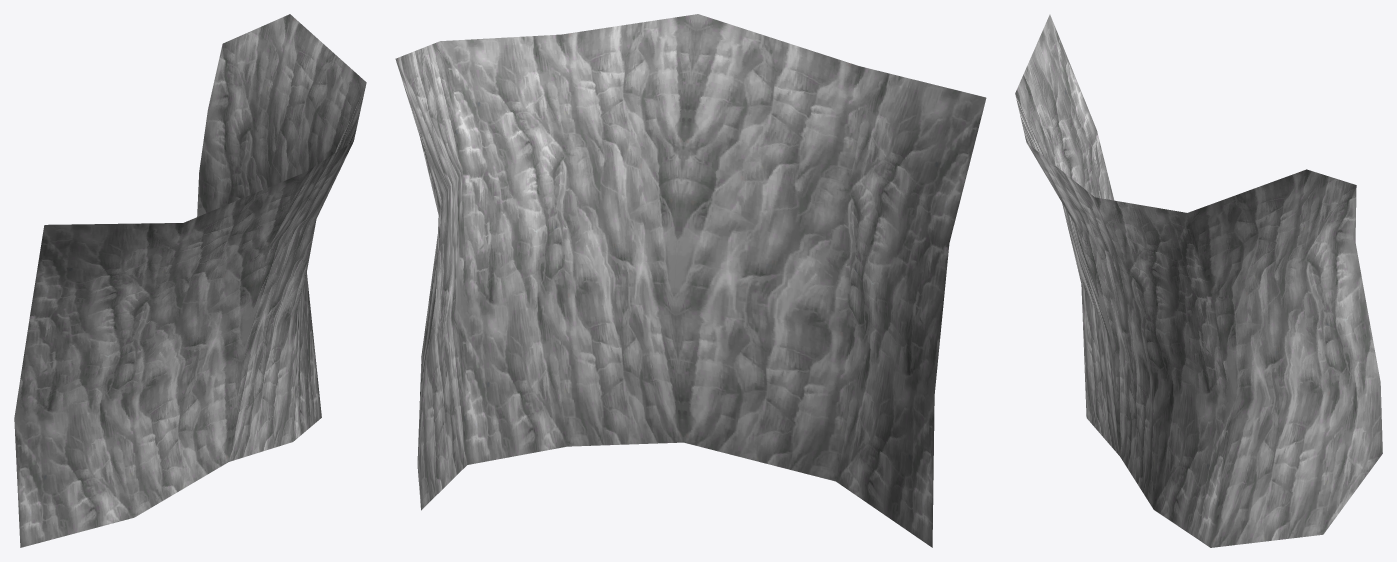
File: SWORDLIGHT20_PS-AREA03_76.fbx
The picture shows the model from 3 angles, left to right: view 1: azimuth 30°, elevation 25°; view 2: azimuth 150°, elevation 25°; view 3: azimuth 270°, elevation 25°; orthographic projection. The views are drawn at different scales.
Visible parts, largest first — view 1: SWORDLIGHT20_PS-AREA03_76; view 2: SWORDLIGHT20_PS-AREA03_76; view 3: SWORDLIGHT20_PS-AREA03_76.
Part boxes in pixels (bbox=[...]): SWORDLIGHT20_PS-AREA03_76: bbox=[14, 14, 366, 547]; SWORDLIGHT20_PS-AREA03_76: bbox=[395, 14, 986, 547]; SWORDLIGHT20_PS-AREA03_76: bbox=[1015, 14, 1382, 547].
Bounding box in the file's own units: 136020 × 128244 × 106258.
Materials: 1 (1 with a texture image).
